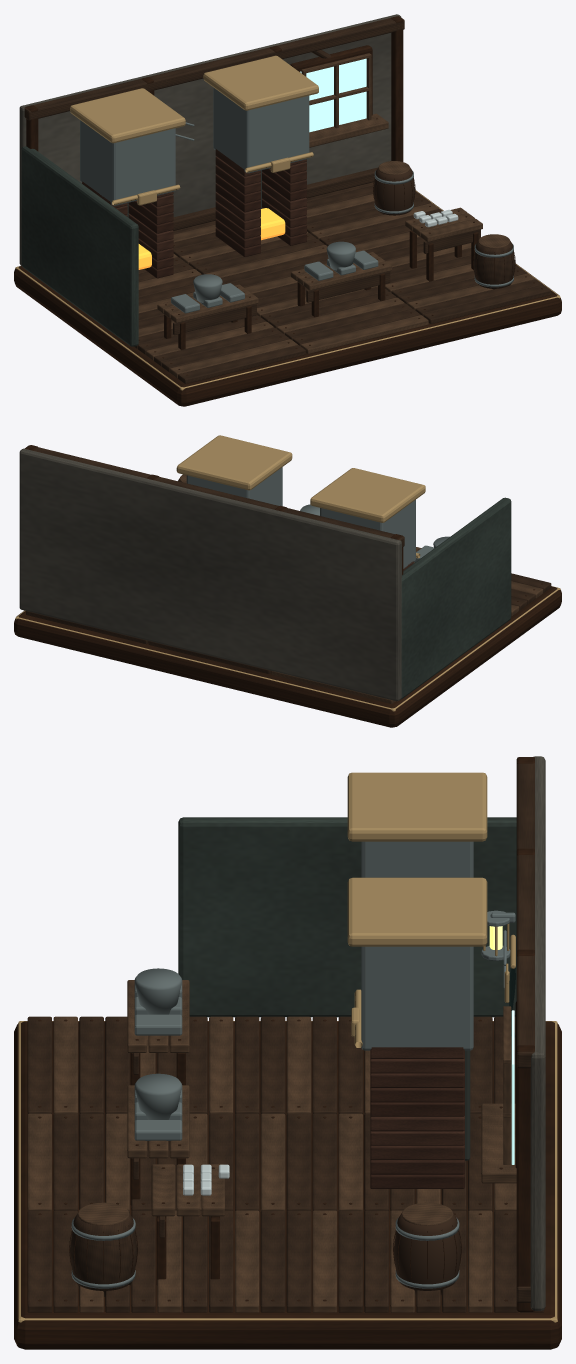
Rendered from room-smelter.glb.
3 renders of one model, top to bottom at view 1: azimuth 30°, elevation 25°; view 2: azimuth 150°, elevation 25°; view 3: azimuth 270°, elevation 25°, orthographic. The views are drawn at different scales.
Parts seen in each view (by area): view 1: Part_Oak honey.004, Part_Oak cut edge.005, Part_Oak end grain.006, Part_Sage plaster.001, Part_Warm lime plaster, Part_Blackened iron.004, Part_Aged brass.024, Part_Window sky.001, Part_Fired brick 0, Part_Fired brick 1, Part_Fired brick 3, Part_Fired brick 2 (+7 smaller); view 2: Part_Warm lime plaster, Part_Sage plaster.001, Part_Oak end grain.006, Part_Aged brass.024, Part_Oak honey.004, Part_Blackened iron.004, Part_Aged brass.004, Part_Oak cut edge.005; view 3: Part_Oak honey.004, Part_Oak cut edge.005, Part_Oak end grain.006, Part_Sage plaster.001, Part_Blackened iron.004, Part_Aged brass.024, Part_Warm lime plaster, Part_Aged brass.004, Part_Oak honey.012, Part_Blackened iron.018, Part_Fired brick 1, Part_Fired brick 2 (+6 smaller).
Boxes of the visible parts, left/top/right/bottom form: Part_Oak honey.004: left=24, top=16, right=551, bottom=383; Part_Oak cut edge.005: left=138, top=53, right=534, bottom=377; Part_Oak end grain.006: left=14, top=16, right=561, bottom=406; Part_Sage plaster.001: left=21, top=146, right=138, bottom=346; Part_Warm lime plaster: left=19, top=14, right=401, bottom=265; Part_Blackened iron.004: left=80, top=87, right=413, bottom=313; Part_Aged brass.024: left=70, top=55, right=318, bottom=143; Part_Window sky.001: left=300, top=58, right=366, bottom=132; Part_Fired brick 0: left=128, top=172, right=306, bottom=278; Part_Fired brick 1: left=128, top=168, right=306, bottom=269; Part_Fired brick 3: left=116, top=156, right=306, bottom=251; Part_Fired brick 2: left=125, top=165, right=306, bottom=260; Part_Warm lime plaster: left=19, top=448, right=401, bottom=701; Part_Sage plaster.001: left=401, top=497, right=511, bottom=698; Part_Oak end grain.006: left=14, top=445, right=561, bottom=727; Part_Aged brass.024: left=176, top=435, right=425, bottom=522; Part_Oak honey.004: left=24, top=445, right=551, bottom=673; Part_Blackened iron.004: left=186, top=467, right=434, bottom=568; Part_Aged brass.004: left=15, top=553, right=560, bottom=711; Part_Oak cut edge.005: left=271, top=547, right=543, bottom=703; Part_Oak honey.004: left=27, top=757, right=544, bottom=1312; Part_Oak cut edge.005: left=27, top=980, right=516, bottom=1312; Part_Oak end grain.006: left=14, top=757, right=561, bottom=1349; Part_Sage plaster.001: left=178, top=817, right=516, bottom=1017; Part_Blackened iron.004: left=134, top=841, right=515, bottom=1288; Part_Aged brass.024: left=347, top=772, right=487, bottom=946; Part_Warm lime plaster: left=530, top=756, right=545, bottom=1310; Part_Aged brass.004: left=18, top=923, right=557, bottom=1322; Part_Oak honey.012: left=70, top=1213, right=137, bottom=1296; Part_Blackened iron.018: left=134, top=968, right=182, bottom=1119; Part_Fired brick 1: left=370, top=1086, right=464, bottom=1174; Part_Fired brick 2: left=370, top=1072, right=464, bottom=1159.
Bounding box in the file's own units: 7.2 × 3.41 × 5.5.
Materials: 18 (11 with a texture image).
